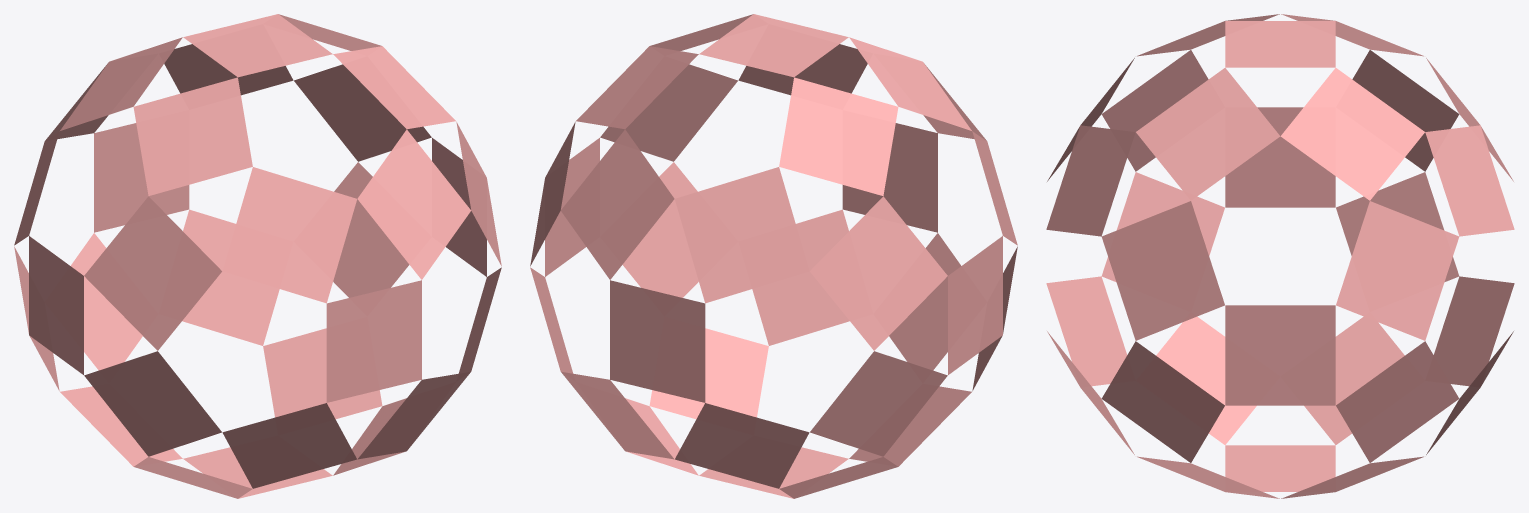
The model's file is RhombicosidodecahedronA2.obj.
The picture shows the model from 3 angles, left to right: view 1: azimuth 30°, elevation 25°; view 2: azimuth 150°, elevation 25°; view 3: azimuth 270°, elevation 25°; orthographic projection.
Size of the model in its own units: 4.24 by 4.24 by 4.24.
